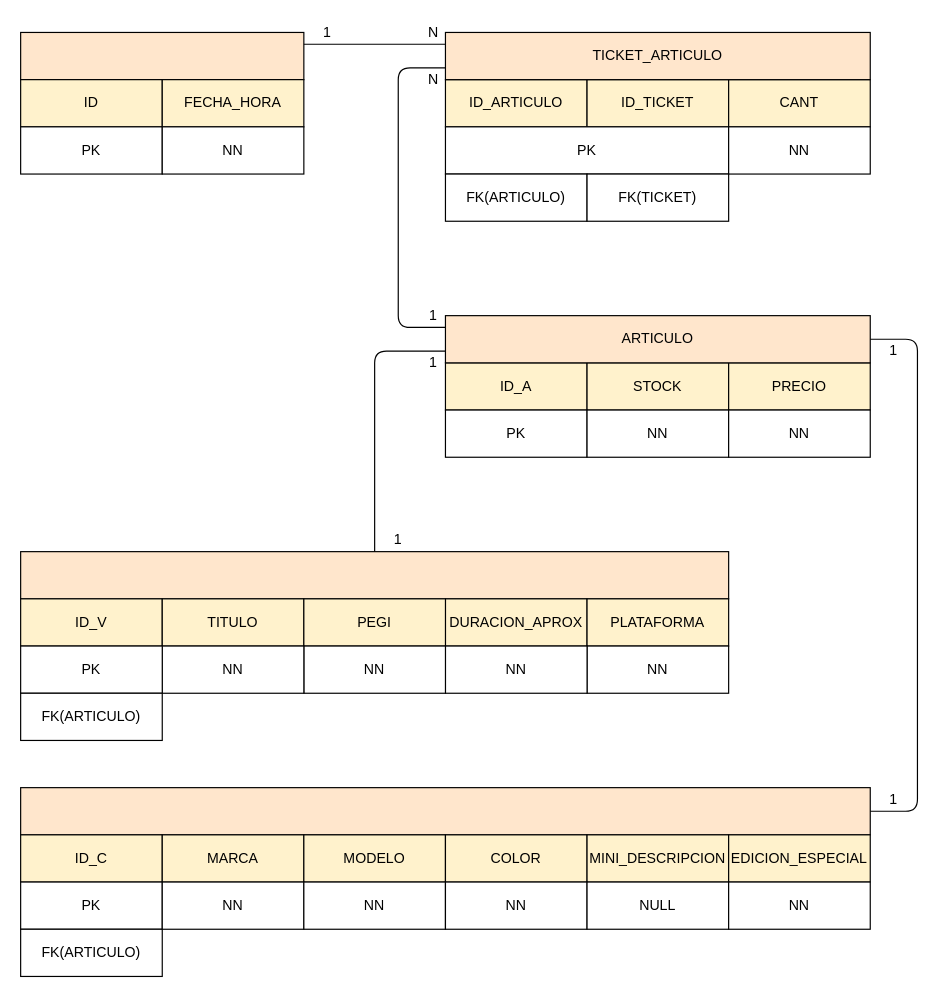
Image size: 939x997. Some labels were removed from this diagram. The shapes that lost their labels are listed below. From the top down, each one's box as (x1, y1, x2, y2) in pixels, then its label:
(19, 31, 304, 80): TICKET
(19, 550, 729, 599): VIDEOJUEGO
(19, 786, 870, 835): CONSOLA
